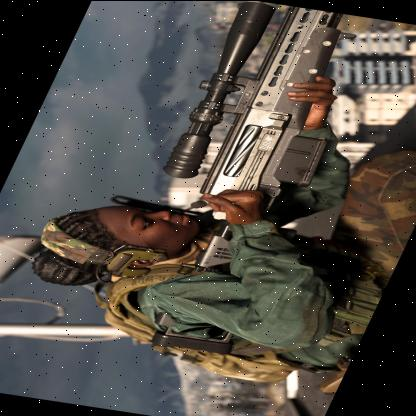rifle: (78, 0, 400, 352)
